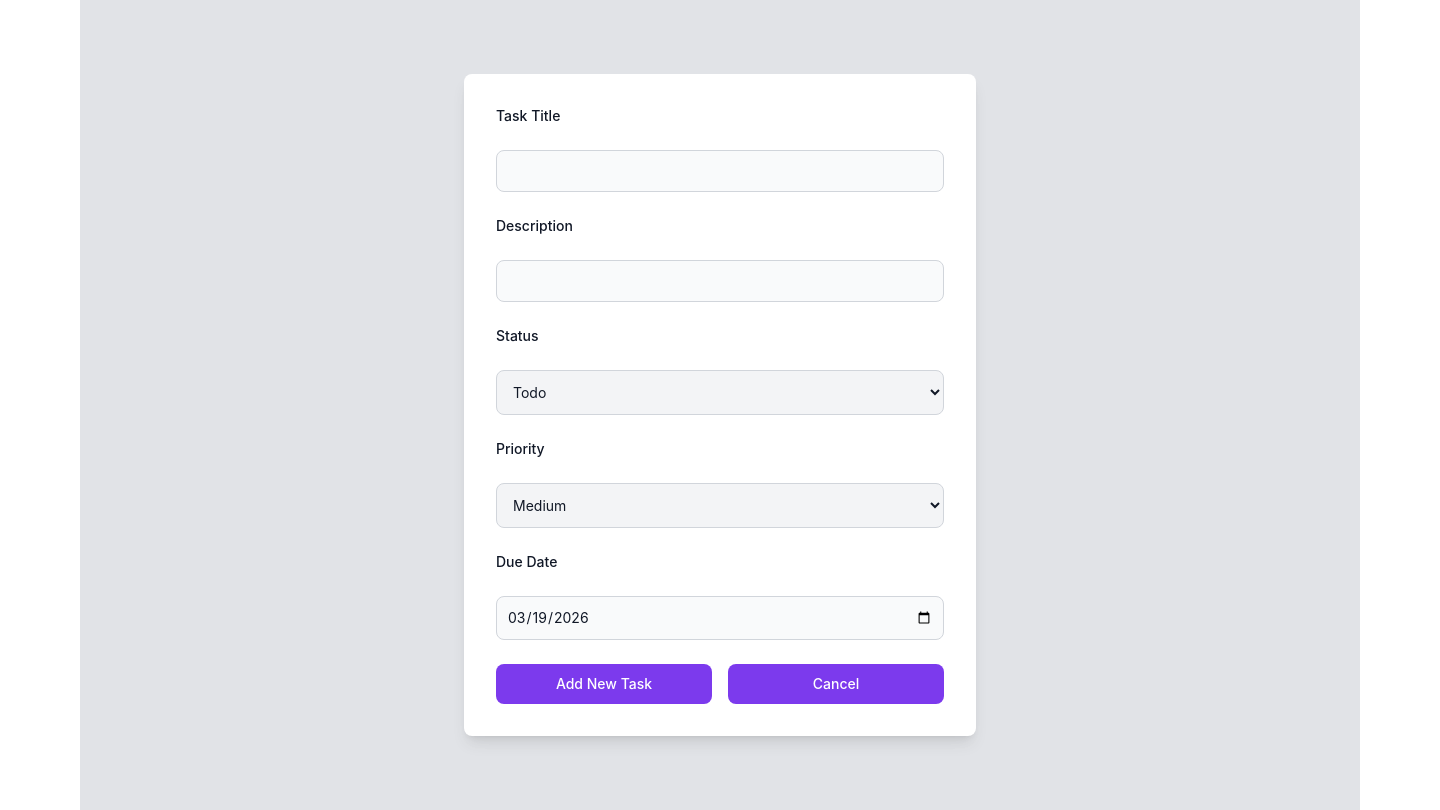
TaskForm component › display error when task title is missing
Click the button "Add New Task" at (604, 684), box x1=496 y1=664 x2=712 y2=704
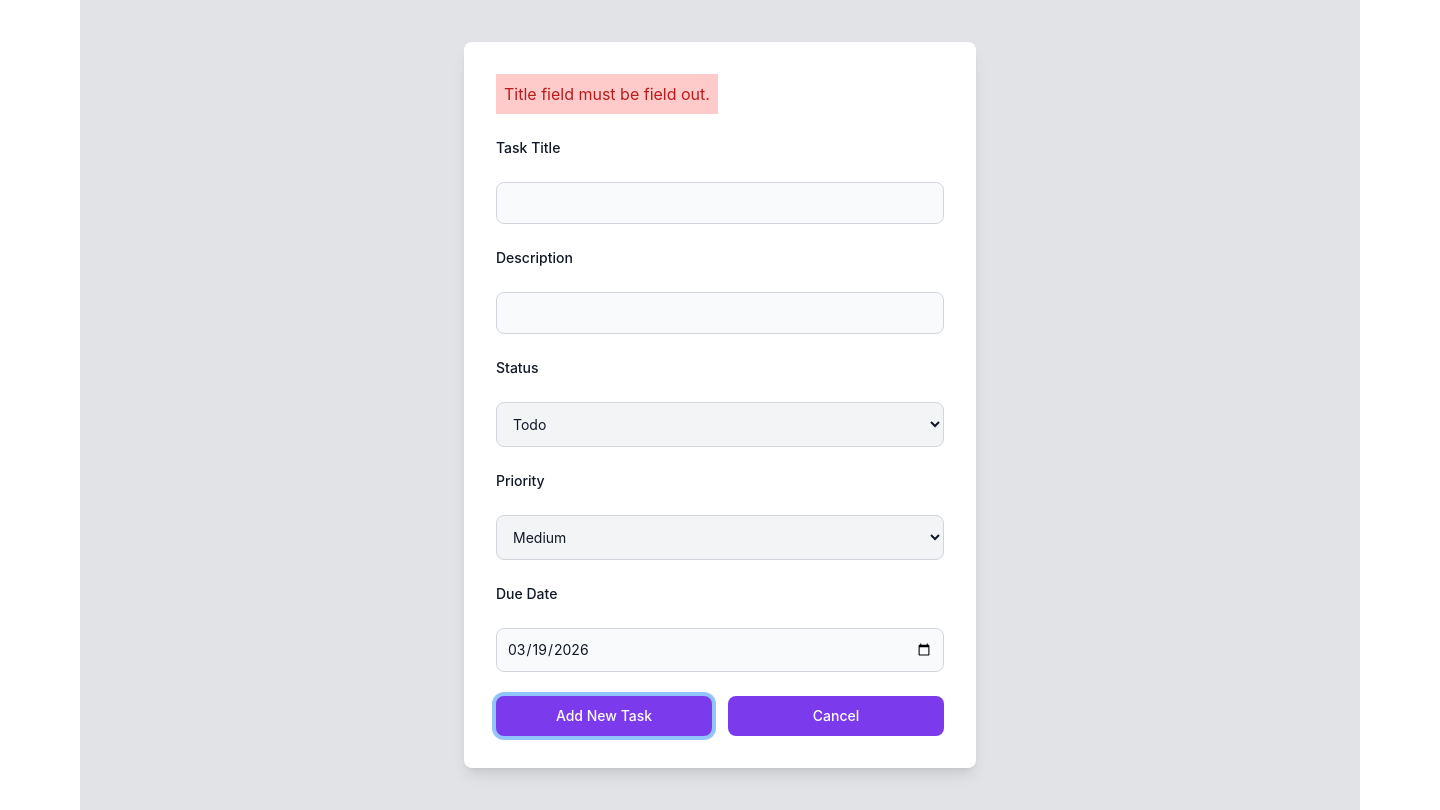
Now the text "Title field must be field out." is shown, box x1=496 y1=74 x2=718 y2=114
